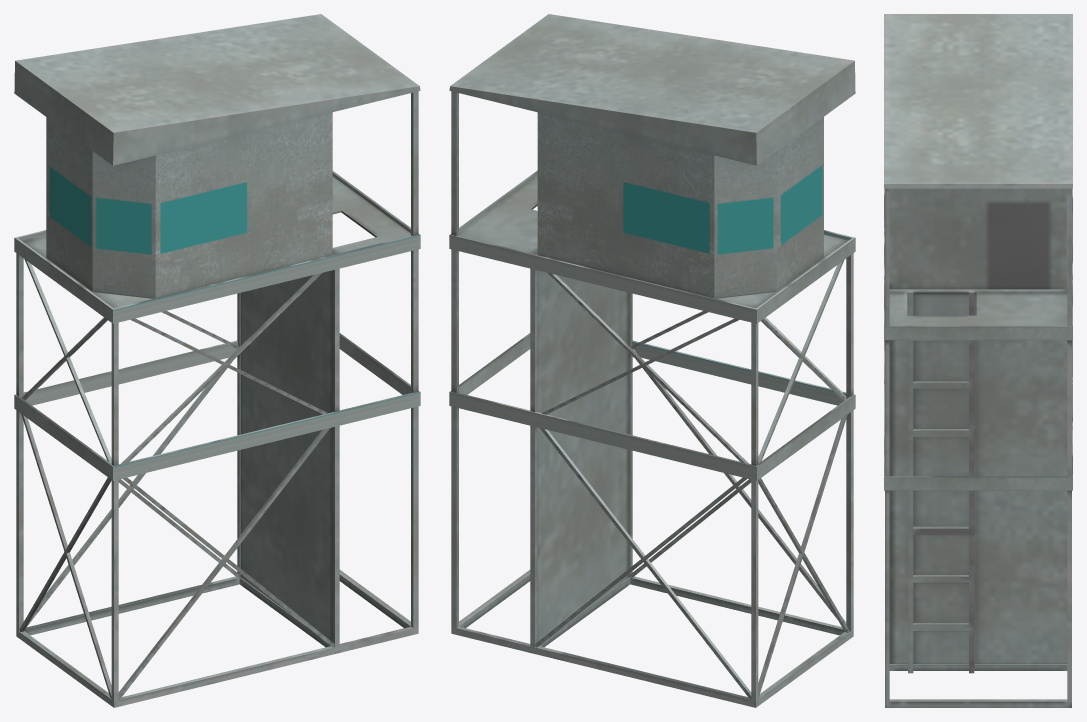
File: Tower.glb
3 renders of one model, left to right at view 1: azimuth 30°, elevation 25°; view 2: azimuth 150°, elevation 25°; view 3: azimuth 270°, elevation 25°, orthographic. The views are drawn at different scales.
Parts seen in each view (by area): view 1: Box001; view 2: Box001; view 3: Box001.
Boxes of the visible parts, bbox=[...] form: Box001: bbox=[14, 14, 420, 707]; Box001: bbox=[449, 14, 855, 707]; Box001: bbox=[884, 14, 1072, 707].
Bounding box in the file's own units: 2.77 × 4.96 × 1.54.
1 material, 1 textured.
